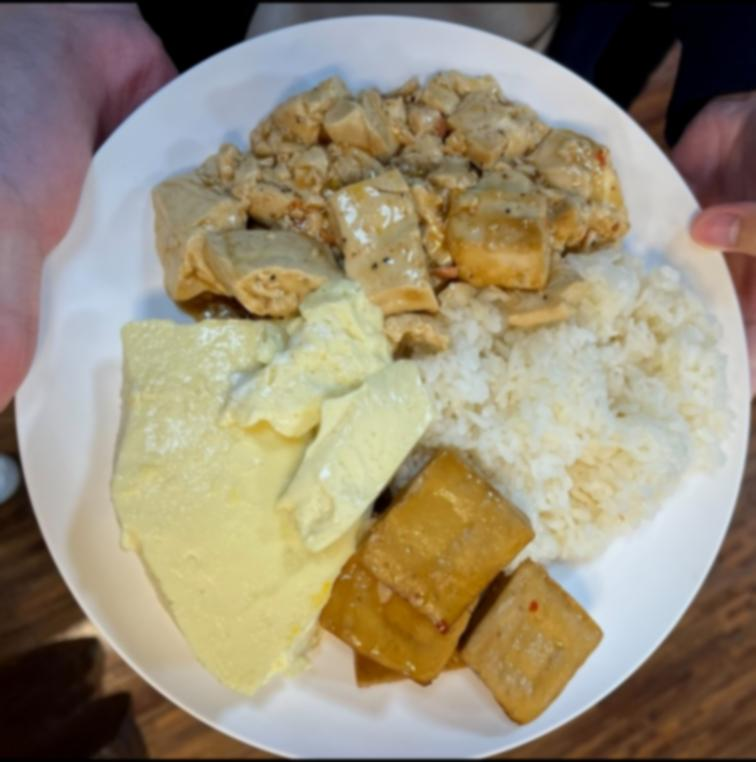plate: (13, 3, 747, 757)
side dish: (102, 290, 433, 702), (150, 71, 620, 329), (424, 248, 730, 560), (331, 453, 616, 734)
